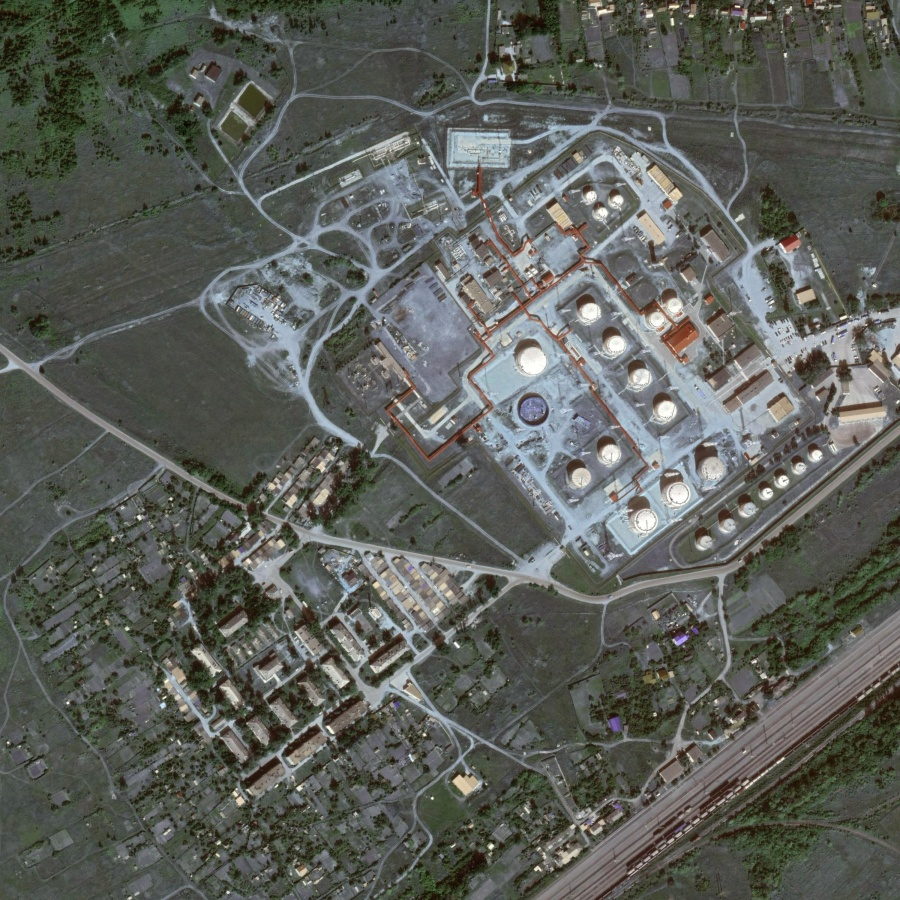PowerPlant: (516, 261, 829, 552)
